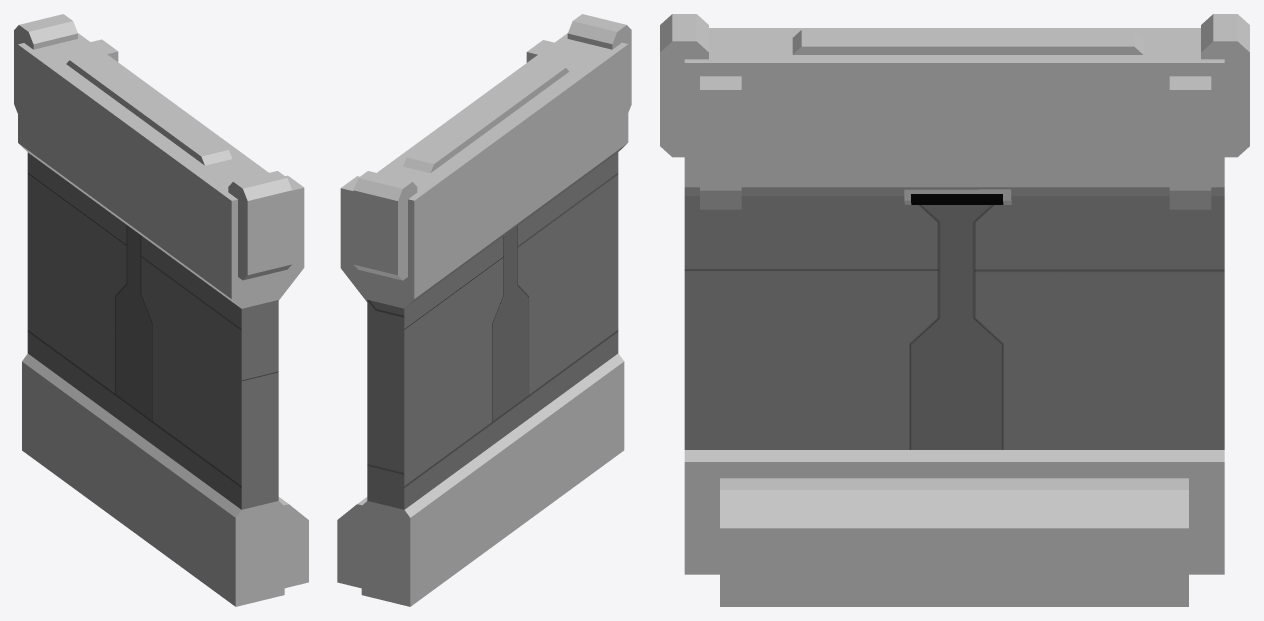
File: SM_Wall_2x2_1.fbx
3 renders of one model, left to right at view 1: azimuth 30°, elevation 25°; view 2: azimuth 150°, elevation 25°; view 3: azimuth 270°, elevation 25°, orthographic. The views are drawn at different scales.
Visible parts, largest first — view 1: SM_Wall_2x2_1; view 2: SM_Wall_2x2_1; view 3: SM_Wall_2x2_1.
Boxes of the visible parts, x1,y1,x2,y2 form: SM_Wall_2x2_1: (14, 14, 308, 606); SM_Wall_2x2_1: (337, 14, 631, 606); SM_Wall_2x2_1: (660, 14, 1249, 606).
Size of the model in its own units: 49.24 by 221 by 218.
